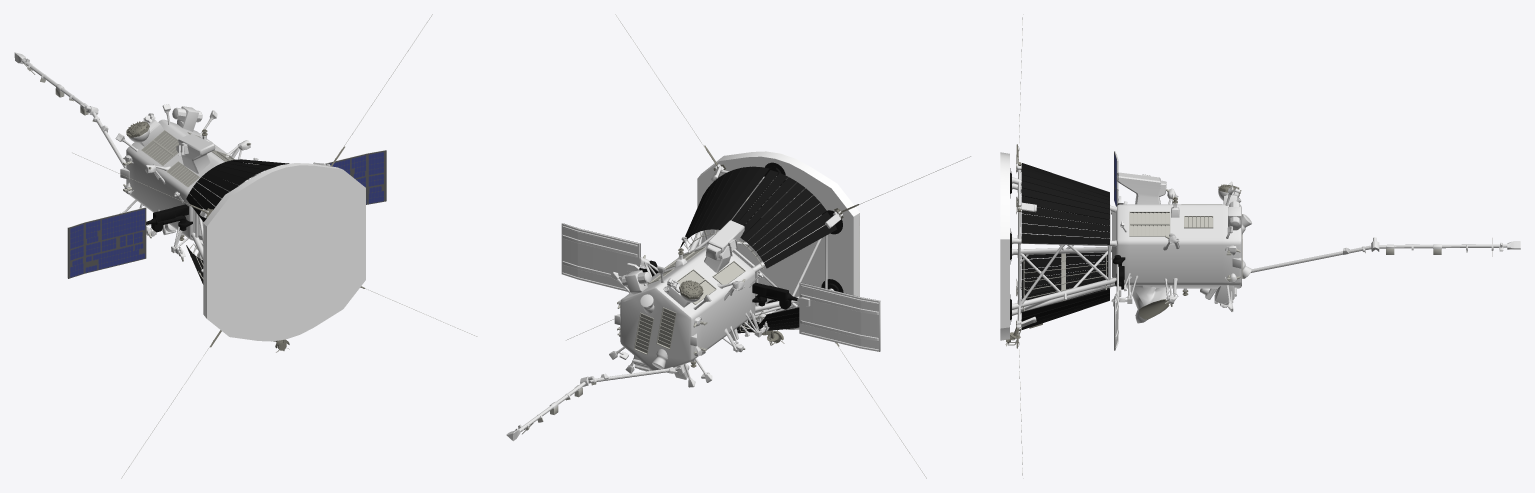
The model's file is parker_lod0.glb.
3 renders of one model, left to right at view 1: azimuth 30°, elevation 25°; view 2: azimuth 150°, elevation 25°; view 3: azimuth 270°, elevation 25°, orthographic. The views are drawn at different scales.
Visible parts, largest first — view 1: parker_lod0; view 2: parker_lod0; view 3: parker_lod0.
Boxes of the visible parts, left/top/right/bottom form: parker_lod0: left=14, top=14, right=477, bottom=478; parker_lod0: left=506, top=14, right=970, bottom=478; parker_lod0: left=1000, top=14, right=1520, bottom=478.
Size of the model in its own units: 5.68 by 5.2 by 6.53.
Materials: 6 (1 with a texture image).
